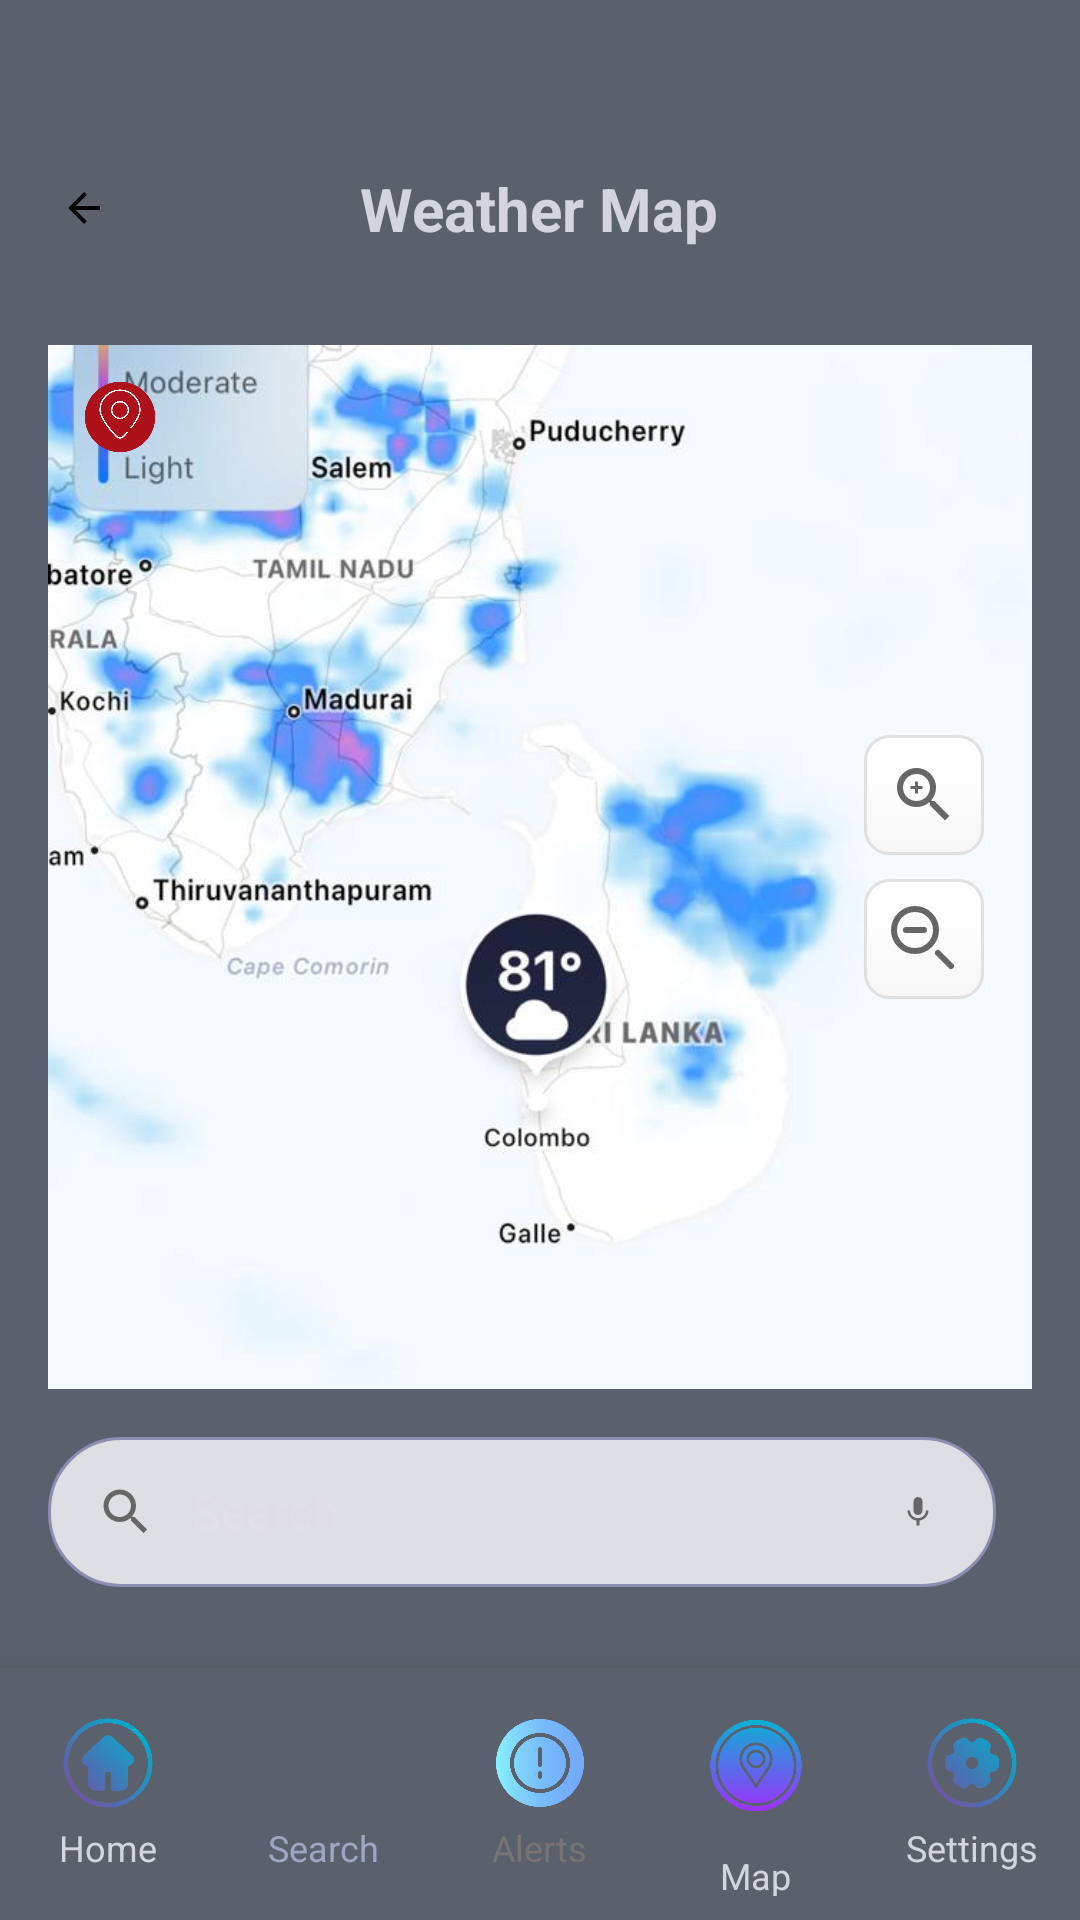

Screen size 1080*1920. Icon name, then its center in pixels as (x,y):
Back: (84,208)
Zoom in: (924,795)
Zoom out: (924,939)
